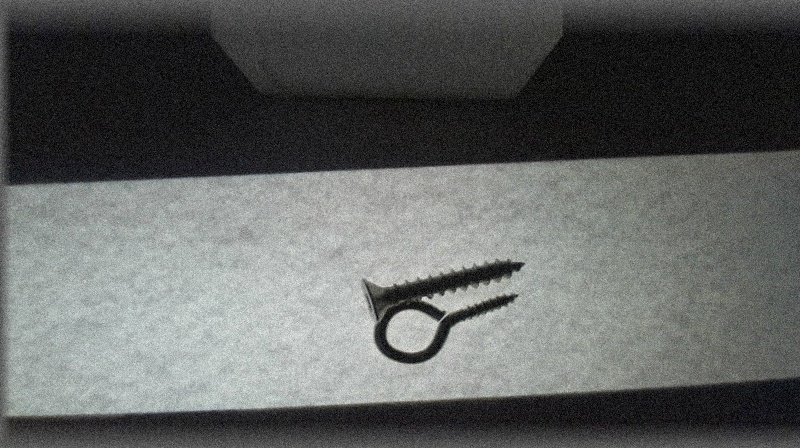O001: (366, 291, 519, 365)
S001: (361, 260, 527, 322)
